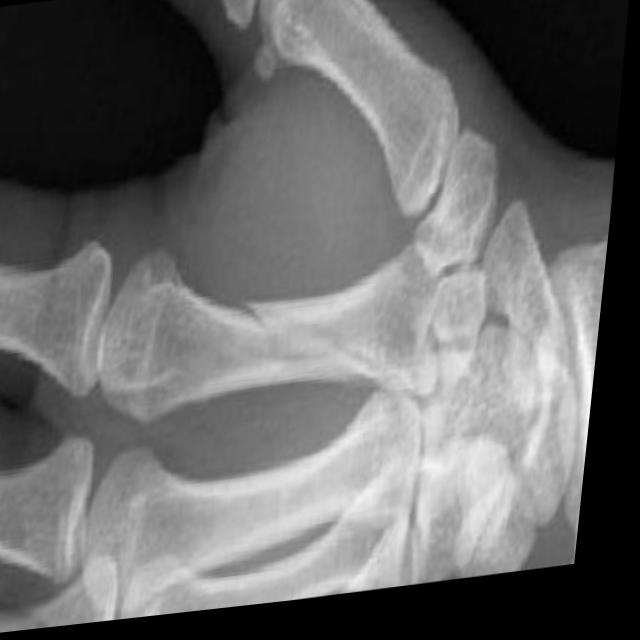fracture: (226, 277, 329, 393)
